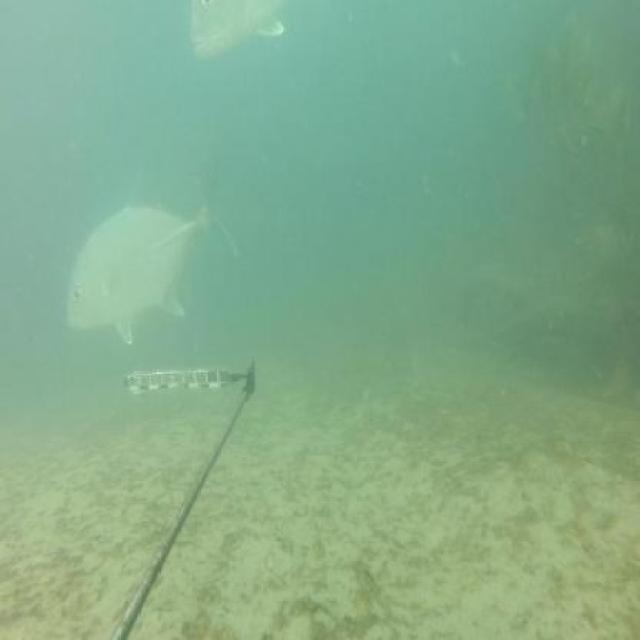Caranx: (66, 159, 243, 353), (185, 0, 301, 62)
